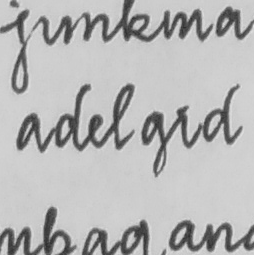a: (13, 110, 45, 154)
d: (198, 80, 245, 148), (52, 82, 93, 152)
e: (85, 110, 106, 149)
g: (139, 109, 169, 179)
i: (171, 103, 195, 151)
l: (110, 81, 137, 153)
